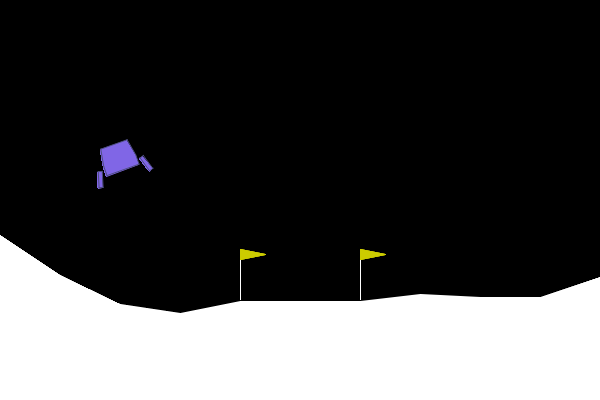lander: (84, 133, 154, 191)
